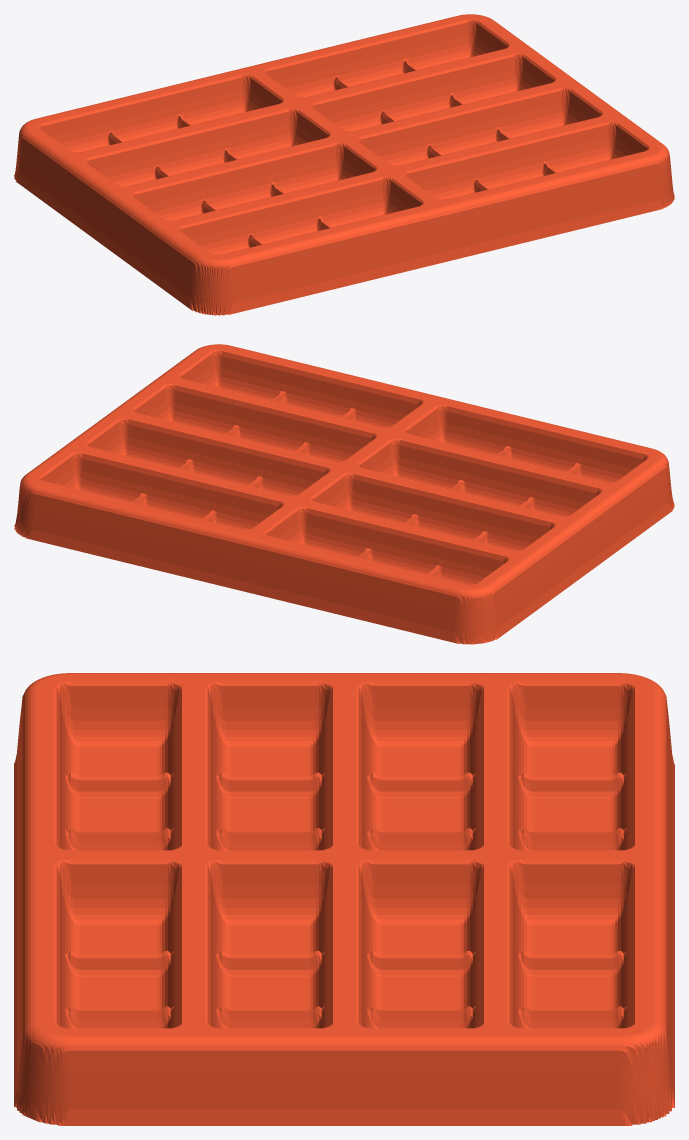
File: mold.glb
The picture shows the model from 3 angles, top to bottom: view 1: azimuth 30°, elevation 25°; view 2: azimuth 150°, elevation 25°; view 3: azimuth 270°, elevation 25°; orthographic projection. The views are drawn at different scales.
Visible parts, largest first — view 1: geometry_0; view 2: geometry_0; view 3: geometry_0.
Boxes of the visible parts, x1,y1,x2,y2 form: geometry_0: [14, 14, 674, 315]; geometry_0: [14, 344, 674, 644]; geometry_0: [14, 673, 674, 1125].
Bounding box in the file's own units: 0.1468 × 0.0145 × 0.1078.
